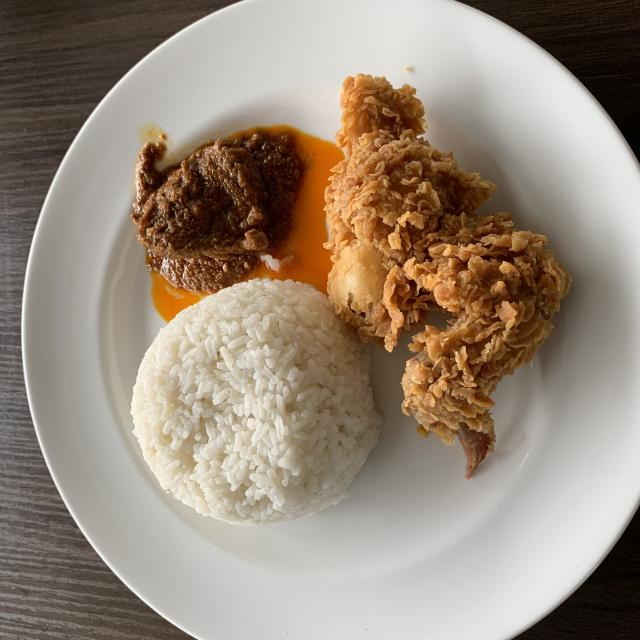Wet Waste: (327, 66, 558, 469), (130, 282, 381, 526), (134, 122, 305, 290)
